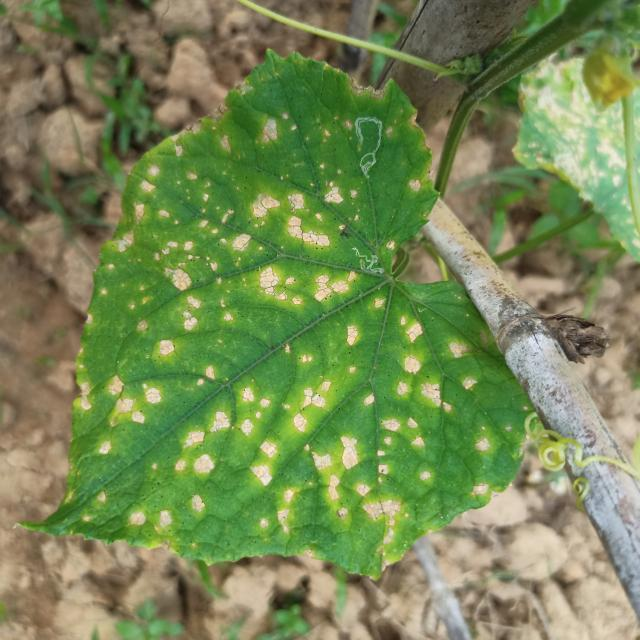disease_cucumber: (88, 101, 484, 560)
